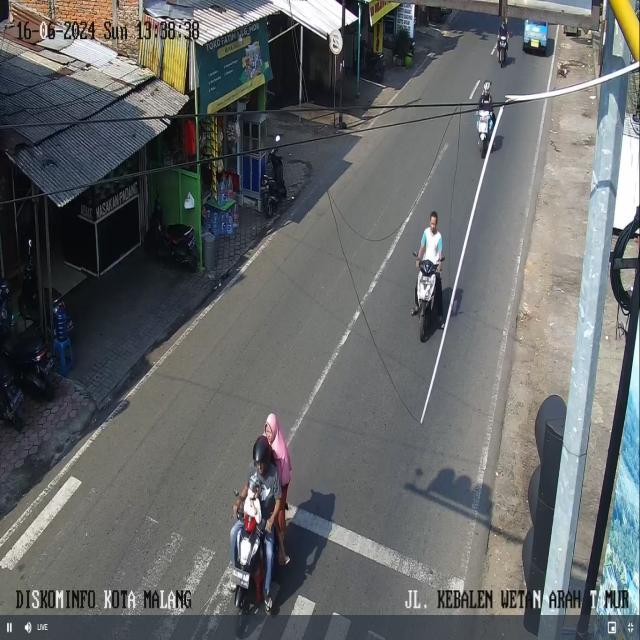Helmet: (253, 435, 271, 463), (483, 81, 490, 94)
Number Plate: (233, 569, 249, 587), (530, 39, 539, 47)
